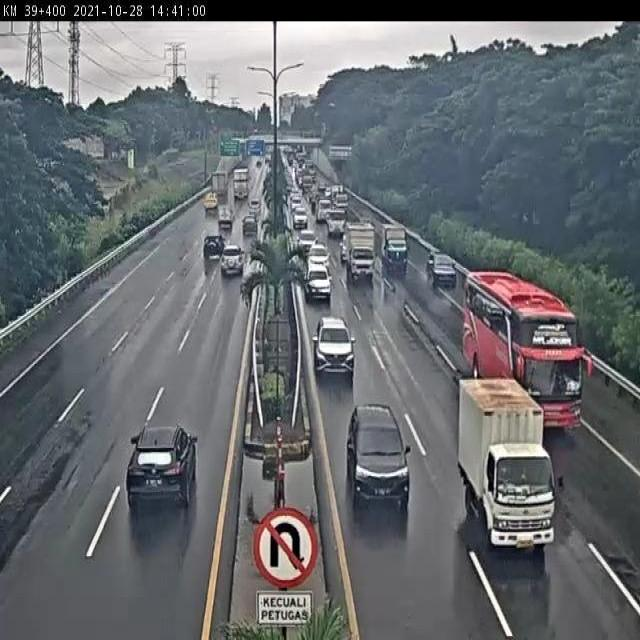bus-l-: (462, 270, 585, 430)
car: (345, 404, 411, 503), (125, 422, 198, 510), (312, 315, 356, 377), (303, 261, 333, 304), (425, 248, 457, 287), (219, 243, 246, 276), (200, 232, 227, 260)
truck-m-: (456, 375, 556, 549), (345, 222, 376, 282)
